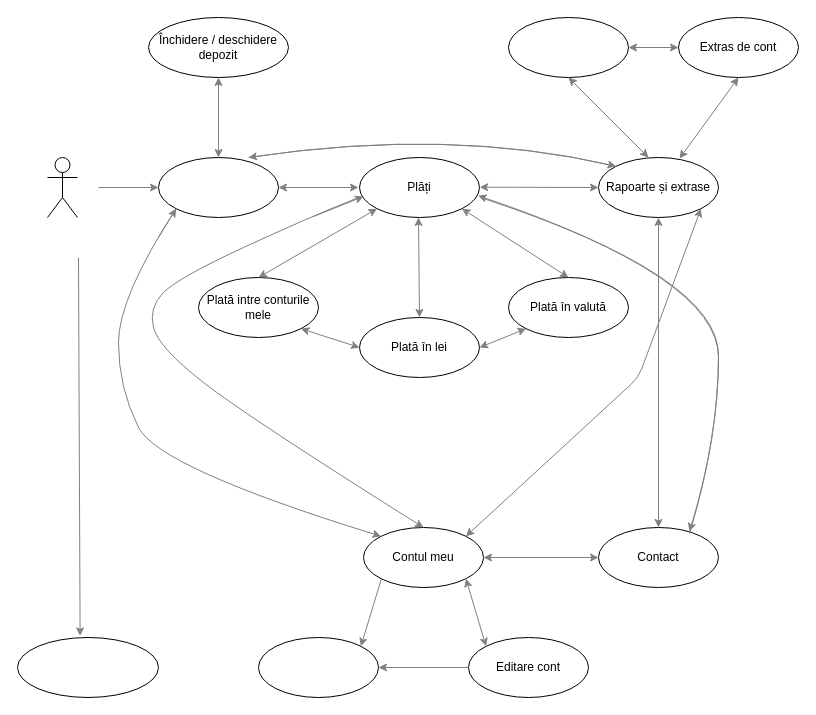
Image size: 816x715. Some labels were removed from this diagram. Each missing label, with the centre of its shape:
Logout: point 318,667
Personal ghișeu: point 62,187
Raport tranzacții: point 568,47
Vizualizare cont: point 218,187
Înregistrare client nou: point 87,667
